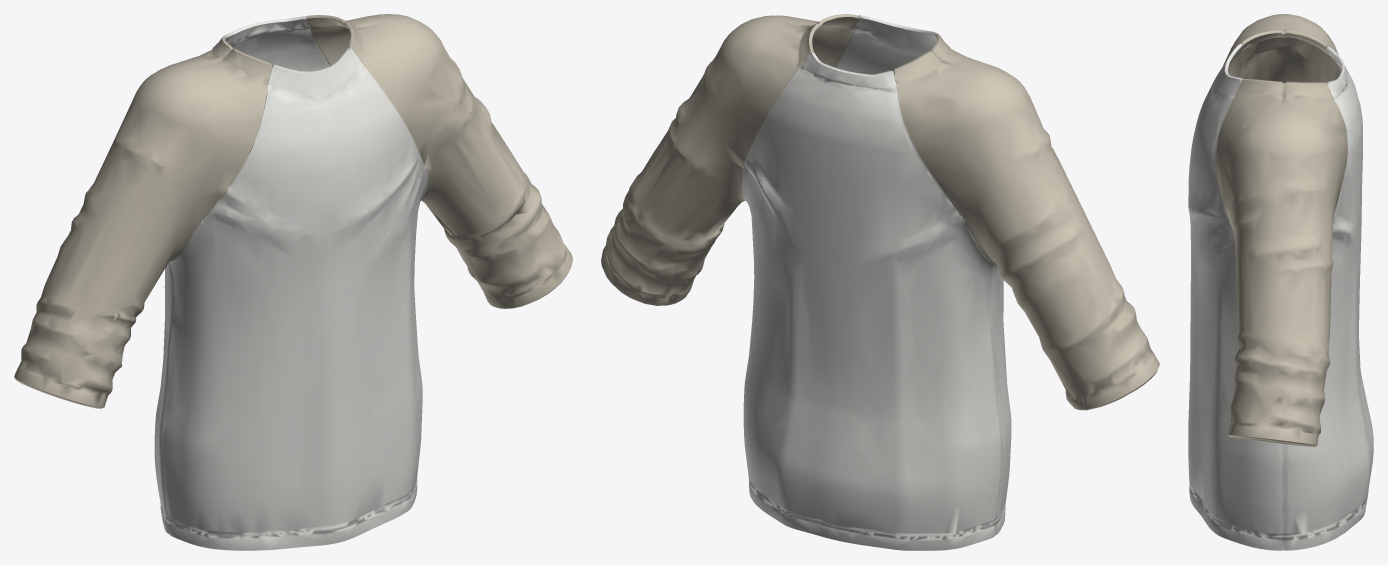
File: 08_camiseta_raglan.glb
3 renders of one model, left to right at view 1: azimuth 30°, elevation 25°; view 2: azimuth 150°, elevation 25°; view 3: azimuth 270°, elevation 25°, orthographic. The views are drawn at different scales.
Visible parts, largest first — view 1: Camiseta raglán; view 2: Camiseta raglán; view 3: Camiseta raglán.
Part boxes in pixels (x1,y1,x2,y2): Camiseta raglán: (14,14,572,550); Camiseta raglán: (601,14,1159,550); Camiseta raglán: (1188,14,1373,550).
Bounding box in the file's own units: 0.8756 × 0.7275 × 0.2763.
